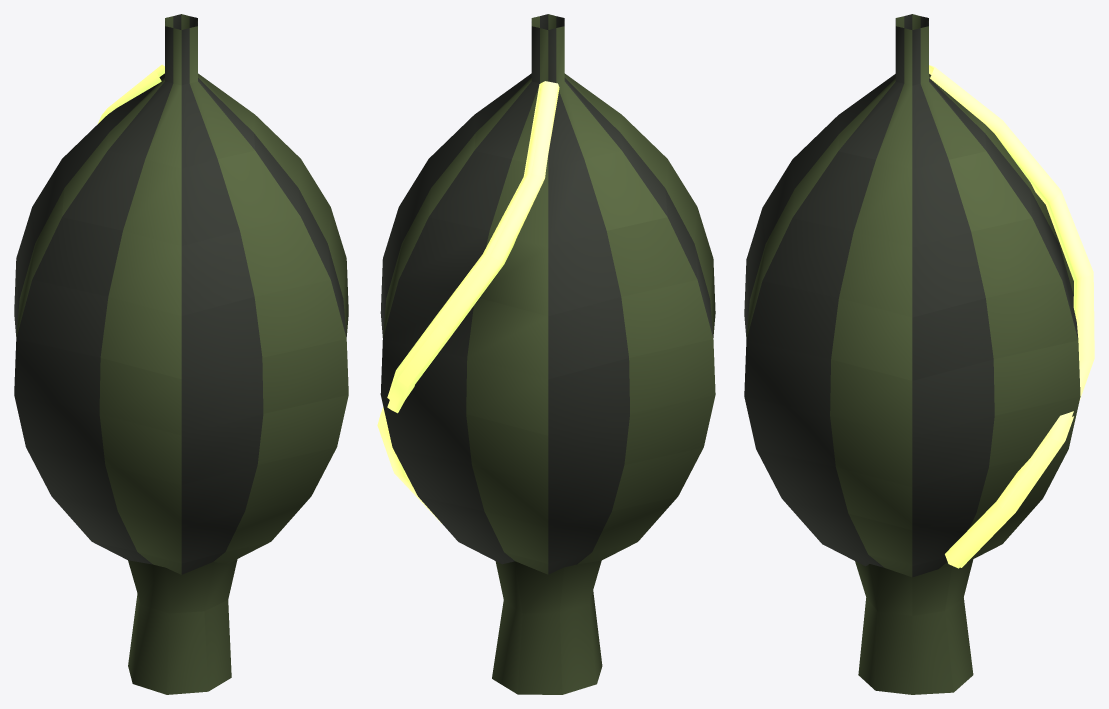
Rendered from obj_capullo_2.glb.
3 views of the same model, side by side, from view 1: azimuth 30°, elevation 25°; view 2: azimuth 150°, elevation 25°; view 3: azimuth 270°, elevation 25° (orthographic).
Visible parts, largest first — view 1: propforge-libre-capullo; view 2: propforge-libre-capullo; view 3: propforge-libre-capullo.
Boxes of the visible parts, x1,y1,x2,y2 form: propforge-libre-capullo: (14,14,348,694); propforge-libre-capullo: (377,14,715,694); propforge-libre-capullo: (744,14,1094,694).
Size of the model in its own units: 0.4065 by 0.7543 by 0.3669.
